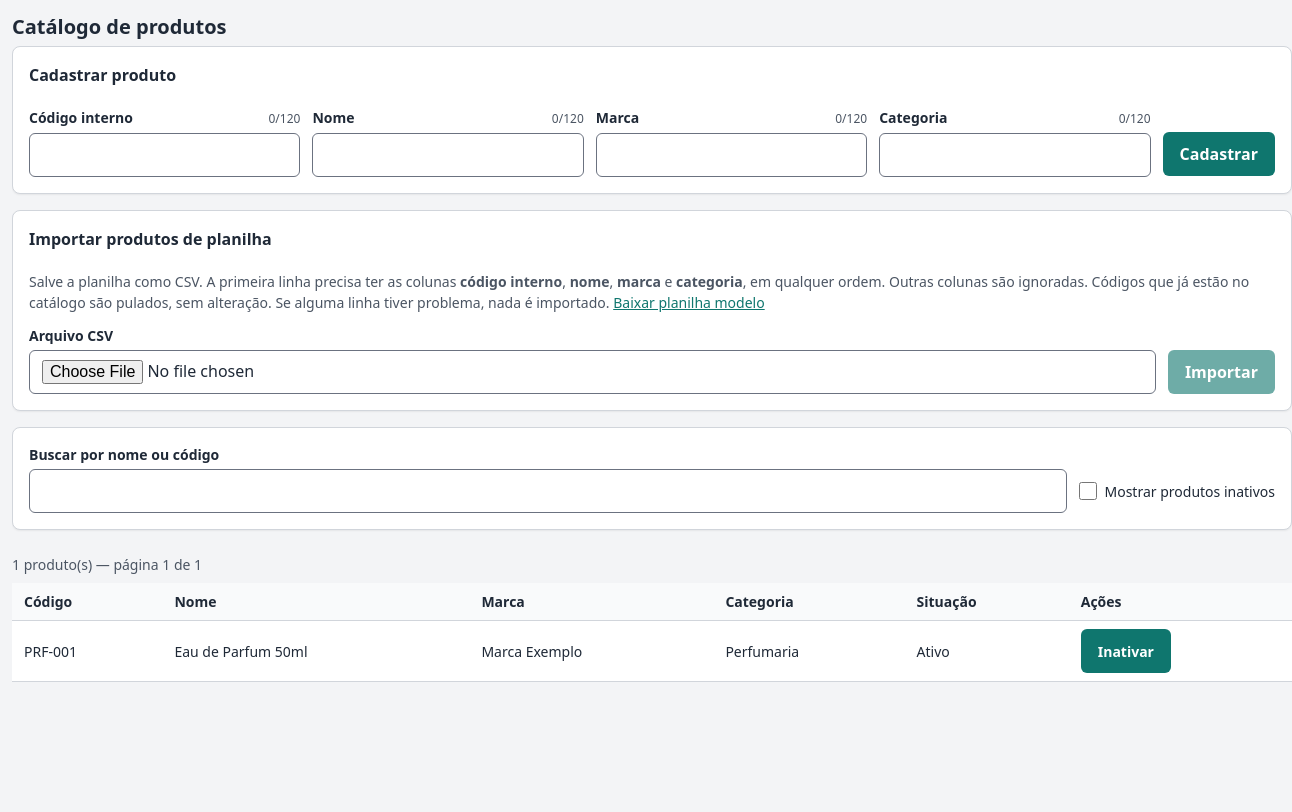
TelaProdutos (RF02) › busca em tempo real (T26) › o botão de limpar só aparece com texto, esvazia o campo e volta à lista completa
Expected: the text "PRF-001" is shown, [12,620,162,682]
Type "parfum" into the field labelled "Buscar por nome ou código". click: (548, 491)
box: [29,469,1066,513]
Wait 300 ms
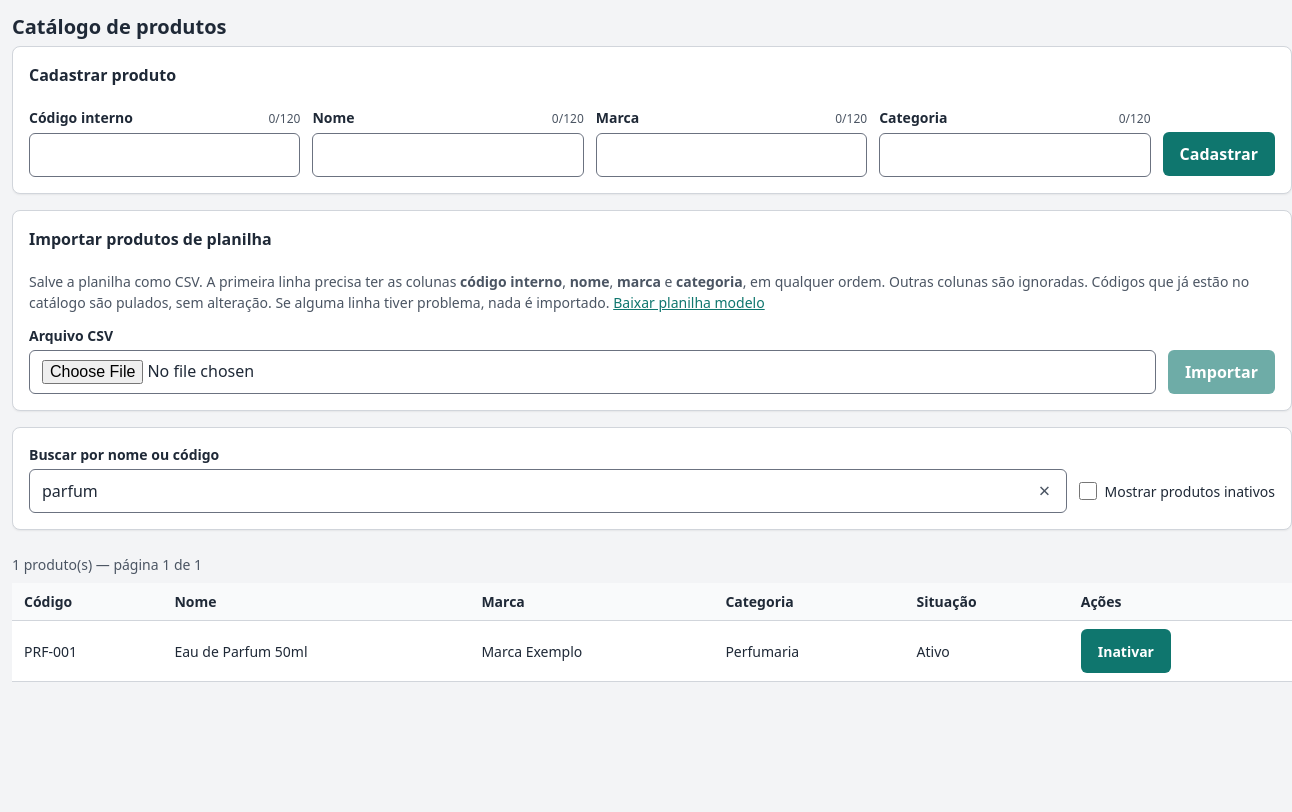
Click the button named "Limpar busca". click: (1044, 491)
box: [1022,469,1066,513]
Wait 300 ms
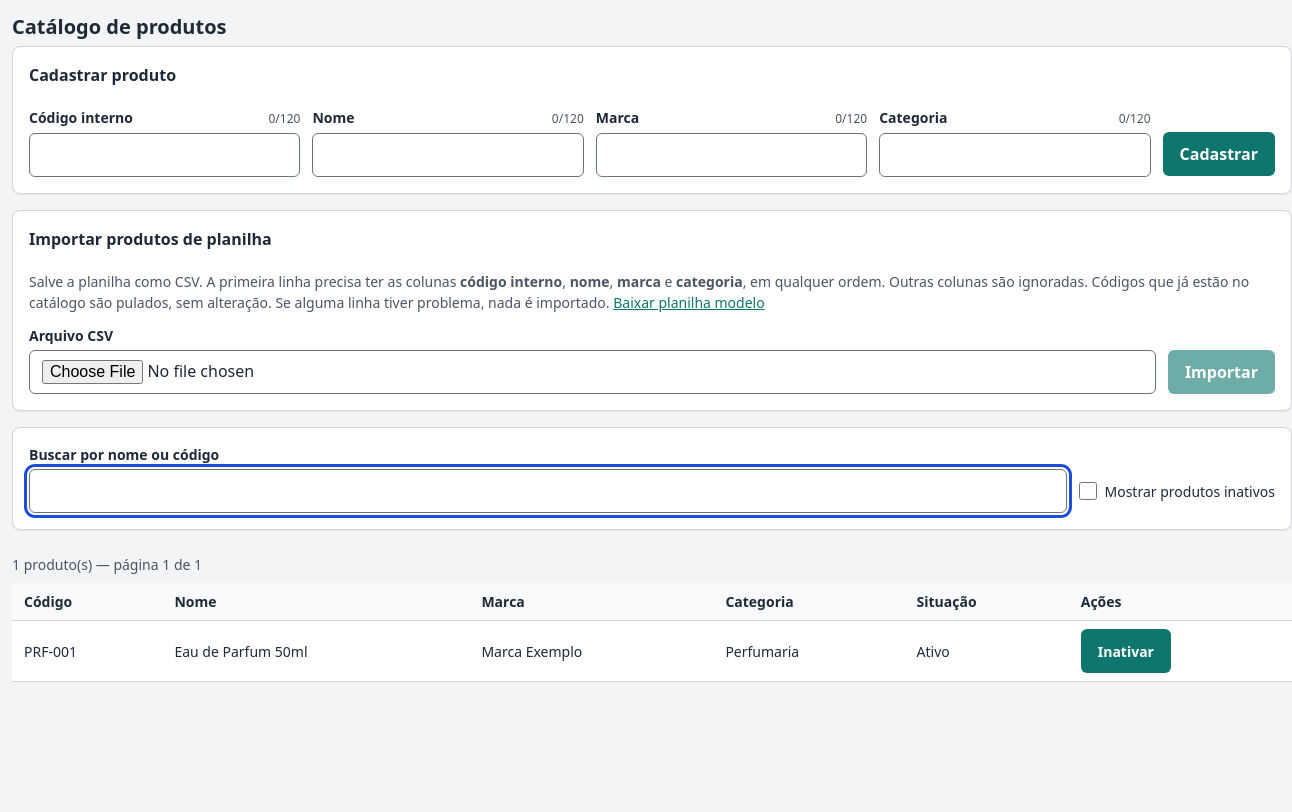
Now the field labelled "Buscar por nome ou código" is empty, box [29,469,1066,513]
